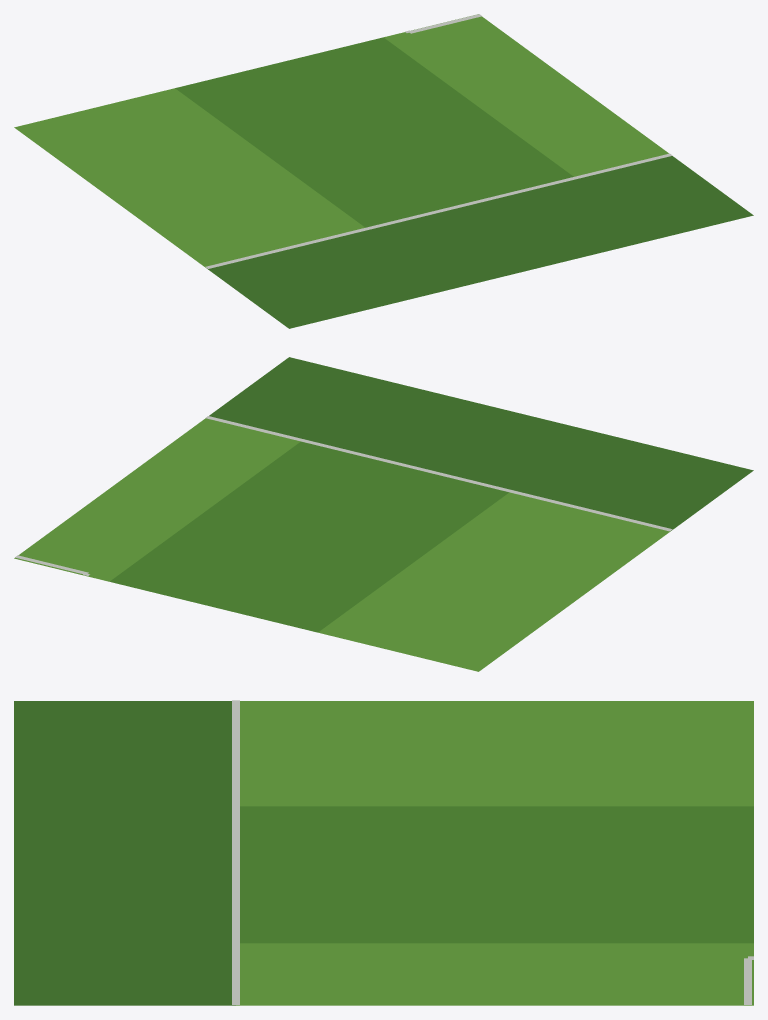
Rendered from pitch_4_3.glb.
The picture shows the model from 3 angles, top to bottom: view 1: azimuth 30°, elevation 25°; view 2: azimuth 150°, elevation 25°; view 3: azimuth 270°, elevation 25°; orthographic projection. The views are drawn at different scales.
Parts seen in each view (by area): view 1: pitch_4_3; view 2: pitch_4_3; view 3: pitch_4_3.
Part boxes in pixels (left/top/right/bottom): pitch_4_3: left=14, top=14, right=753, bottom=328; pitch_4_3: left=14, top=357, right=753, bottom=671; pitch_4_3: left=14, top=700, right=753, bottom=1005.
Bounding box in the file's own units: 19.5 × 0.02 × 20.
